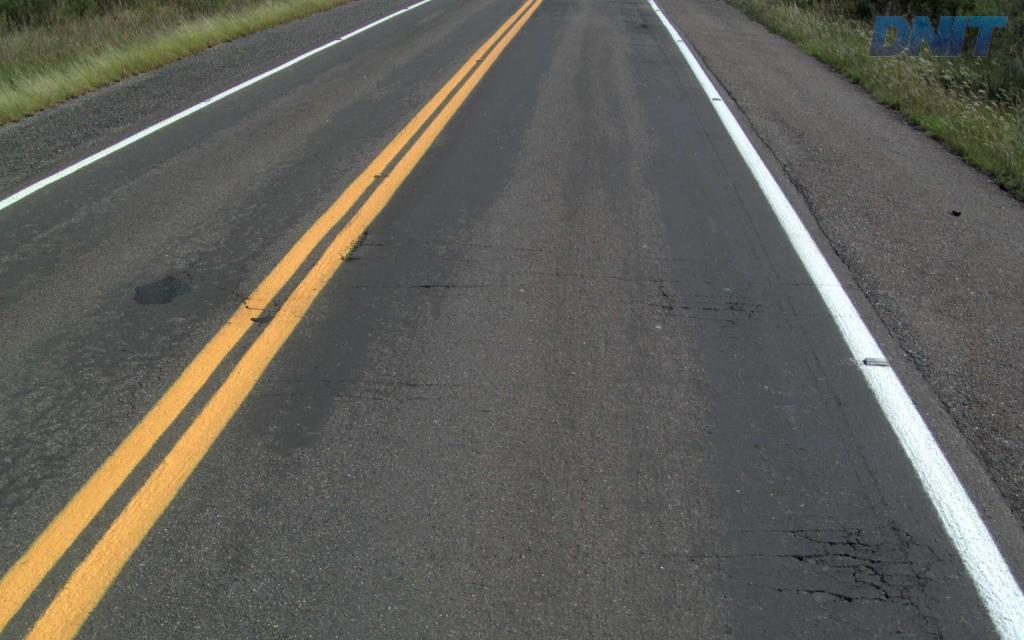crack: (778, 526, 894, 587)
